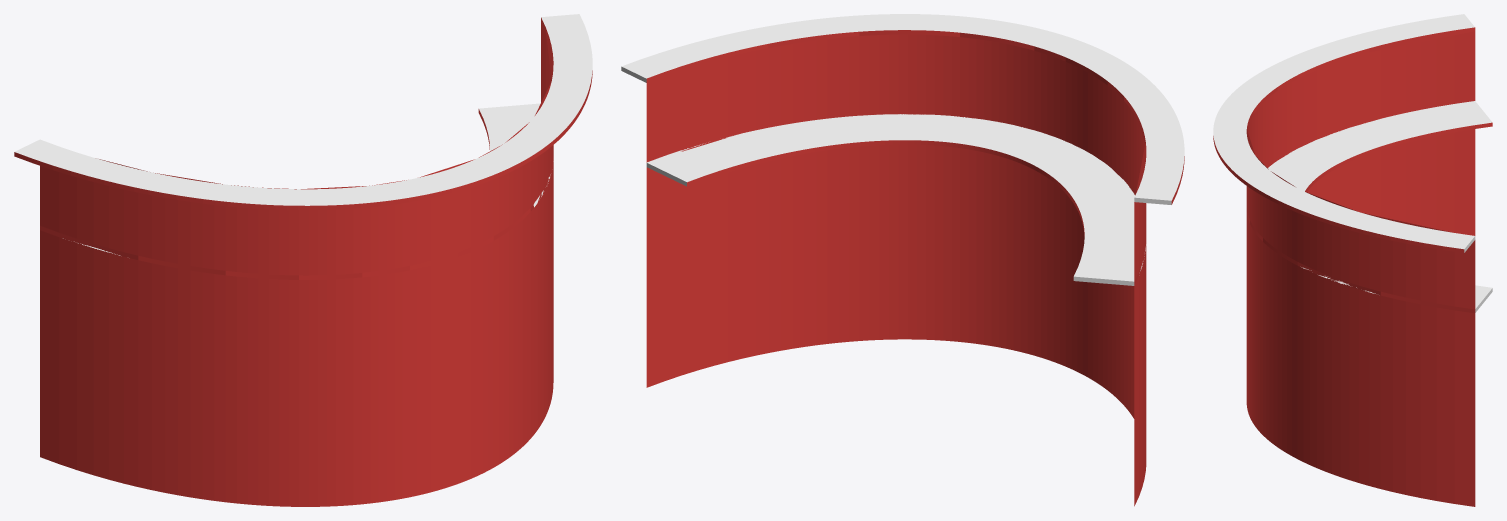
Rendered from Moduloinfo.obj.
The picture shows the model from 3 angles, left to right: view 1: azimuth 30°, elevation 25°; view 2: azimuth 150°, elevation 25°; view 3: azimuth 270°, elevation 25°; orthographic projection. The views are drawn at different scales.
Parts seen in each view (by area): view 1: Plano_subdividido.001; view 2: Plano_subdividido.001; view 3: Plano_subdividido.001.
Boxes of the visible parts, bbox=[...] form: Plano_subdividido.001: bbox=[14, 14, 592, 506]; Plano_subdividido.001: bbox=[621, 14, 1184, 506]; Plano_subdividido.001: bbox=[1213, 14, 1492, 506].
Size of the model in its own units: 2.75 by 1.48 by 1.38.
2 materials, 2 textured.
